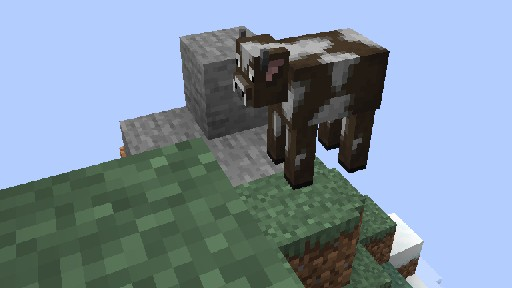cow: (232, 27, 389, 190)
